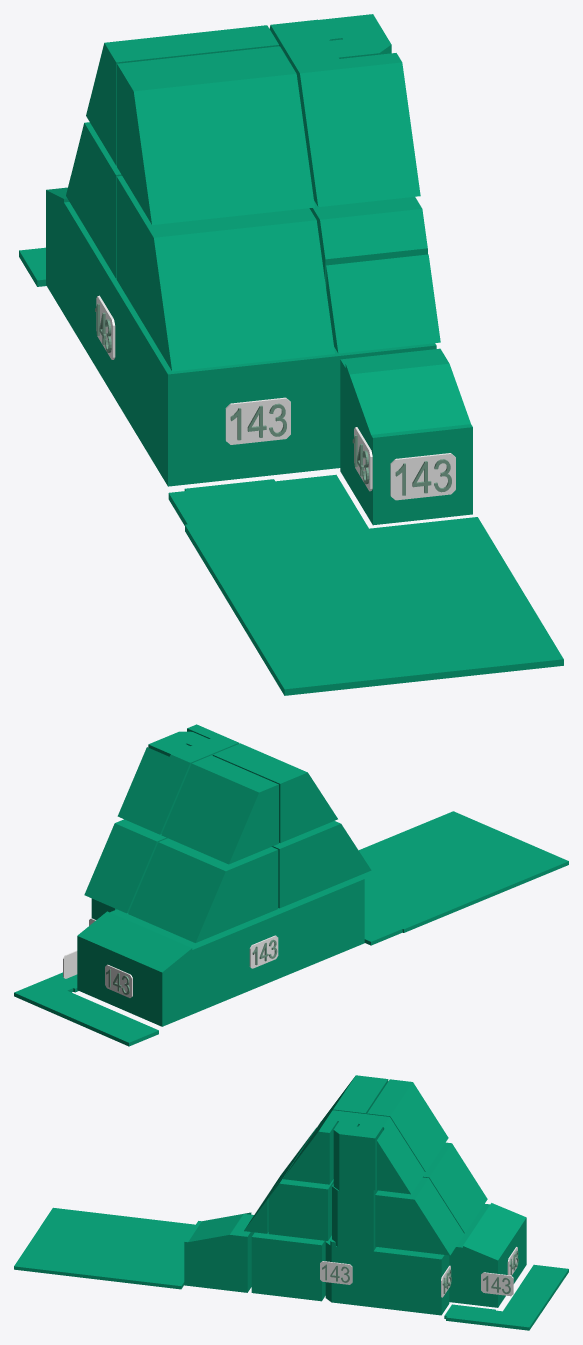
3 views of the same model, one above another, from view 1: azimuth 30°, elevation 25°; view 2: azimuth 150°, elevation 25°; view 3: azimuth 270°, elevation 25° (orthographic). The views are drawn at different scales.
Parts seen in each view (by area): view 1: g_17, g_10, g_7, g_0, g_15, g_5, g_1, g_16, g_6, g_11, g_8, g_14 (+2 smaller); view 2: g_1, g_17, g_8, g_11, g_7, g_15, g_10, g_0, g_9, g_18, g_14, g_50 (+1 smaller); view 3: g_17, g_1, g_15, g_9, g_5, g_0, g_2, g_6, g_11, g_18, g_14, g_8 (+6 smaller).
Part boxes in pixels (box(x1,y1,x2,y2)): g_17: box(168, 474, 563, 695); g_10: box(117, 46, 314, 224); g_7: box(116, 176, 334, 371); g_0: box(131, 313, 436, 486); g_15: box(269, 19, 420, 206); g_5: box(340, 348, 472, 525); g_1: box(46, 187, 136, 425); g_16: box(326, 254, 440, 353); g_6: box(309, 196, 427, 288); g_11: box(86, 25, 278, 165); g_8: box(66, 122, 121, 278); g_14: box(318, 14, 391, 58); g_1: box(77, 901, 304, 1026); g_17: box(358, 811, 568, 945); g_8: box(128, 838, 278, 942); g_11: box(161, 755, 278, 864); g_7: box(272, 821, 371, 908); g_15: box(117, 724, 239, 834); g_10: box(213, 743, 337, 842); g_0: box(298, 876, 364, 967); g_9: box(84, 819, 167, 913); g_18: box(14, 972, 158, 1046); g_14: box(148, 731, 208, 756); g_50: box(249, 935, 278, 968); g_17: box(14, 1207, 195, 1289); g_1: box(449, 1203, 526, 1307); g_15: box(283, 1110, 425, 1194); g_9: box(375, 1177, 464, 1255); g_5: box(184, 1212, 254, 1292); g_0: box(251, 1232, 325, 1301); g_2: box(376, 1247, 449, 1315); g_6: box(268, 1162, 333, 1240); g_11: box(367, 1079, 448, 1171); g_18: box(444, 1264, 568, 1330); g_14: box(333, 1121, 382, 1190); g_8: box(423, 1142, 487, 1233).
Size of the model in its own units: 11.79 by 7.94 by 23.1.
